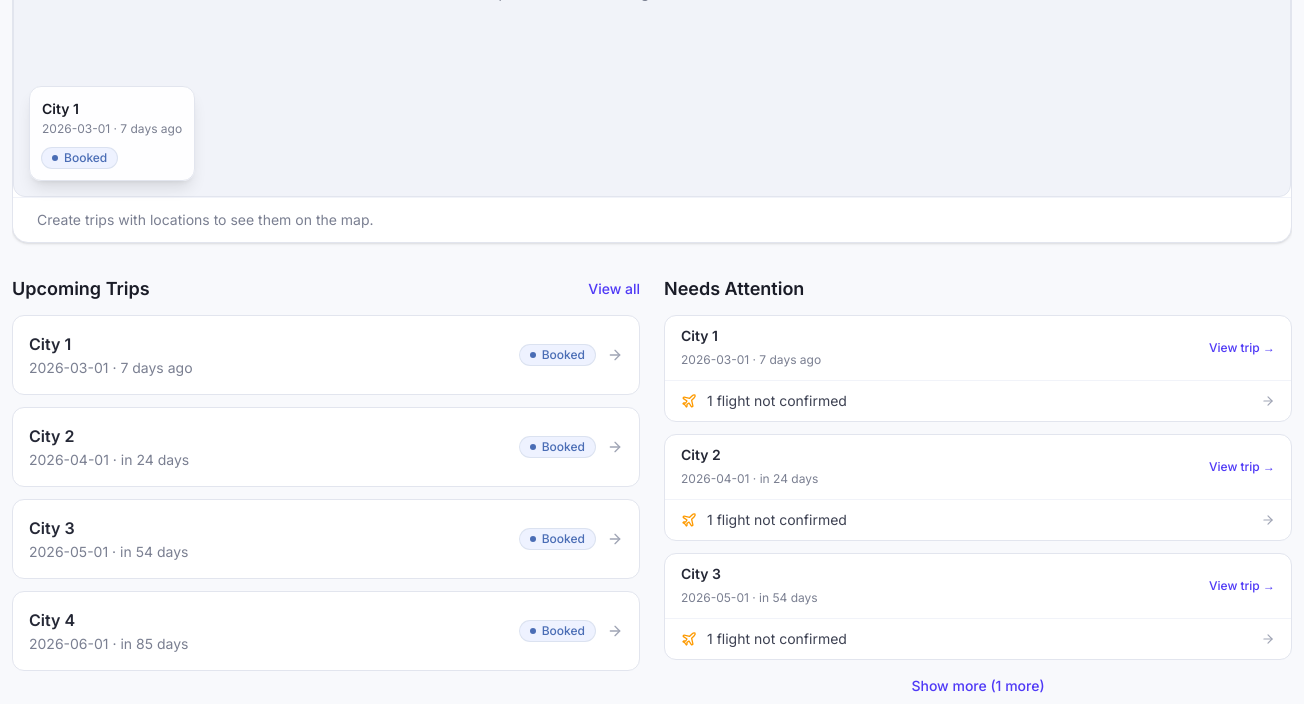
Scenario: DashboardPage Needs Attention › collapses back to 3 groups after clicking Show less
The image size is (1304, 704).
(page scrolled)
Click the button "Show more (1 more)".
click(978, 686)  # box [664, 668, 1292, 703]
(page scrolled)
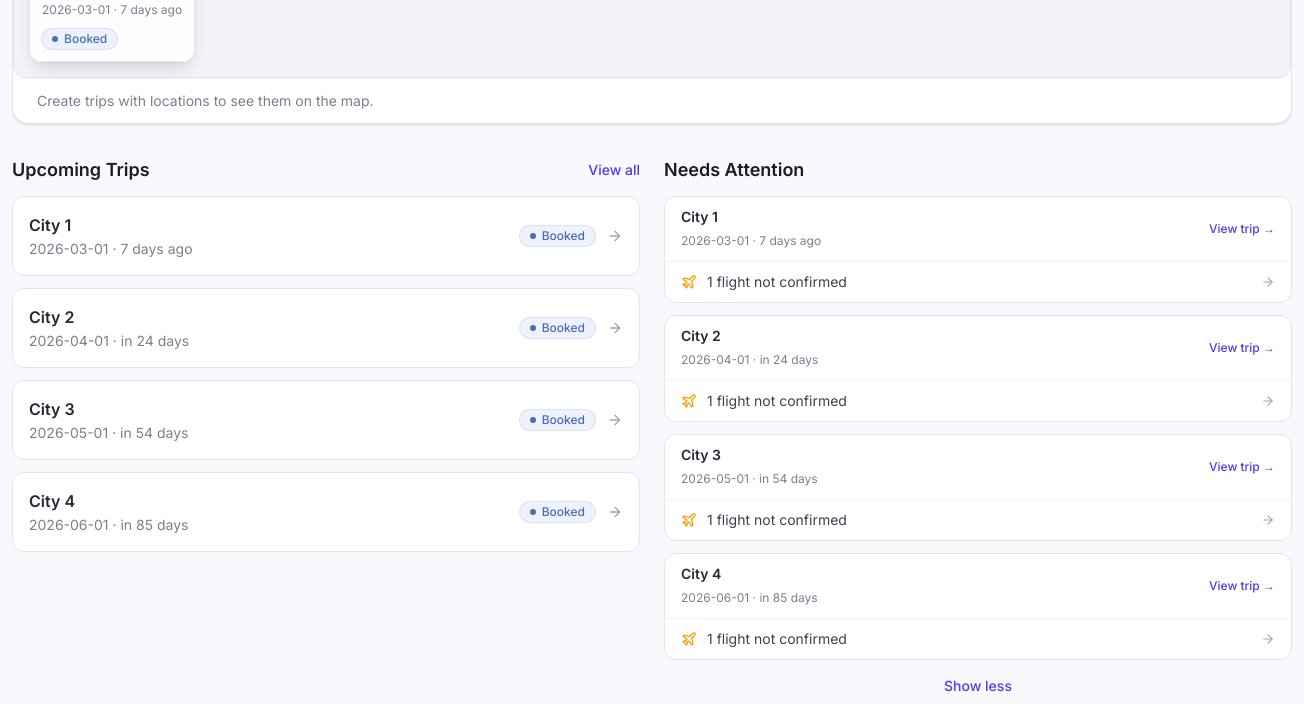
Now the number of links "View trip →" is 4, box [1209, 221, 1275, 237]; [1209, 340, 1275, 356]; [1209, 459, 1275, 475]; [1209, 578, 1275, 594]
Click the button "Show less".
click(978, 686)  # box [664, 668, 1292, 703]
(page scrolled)
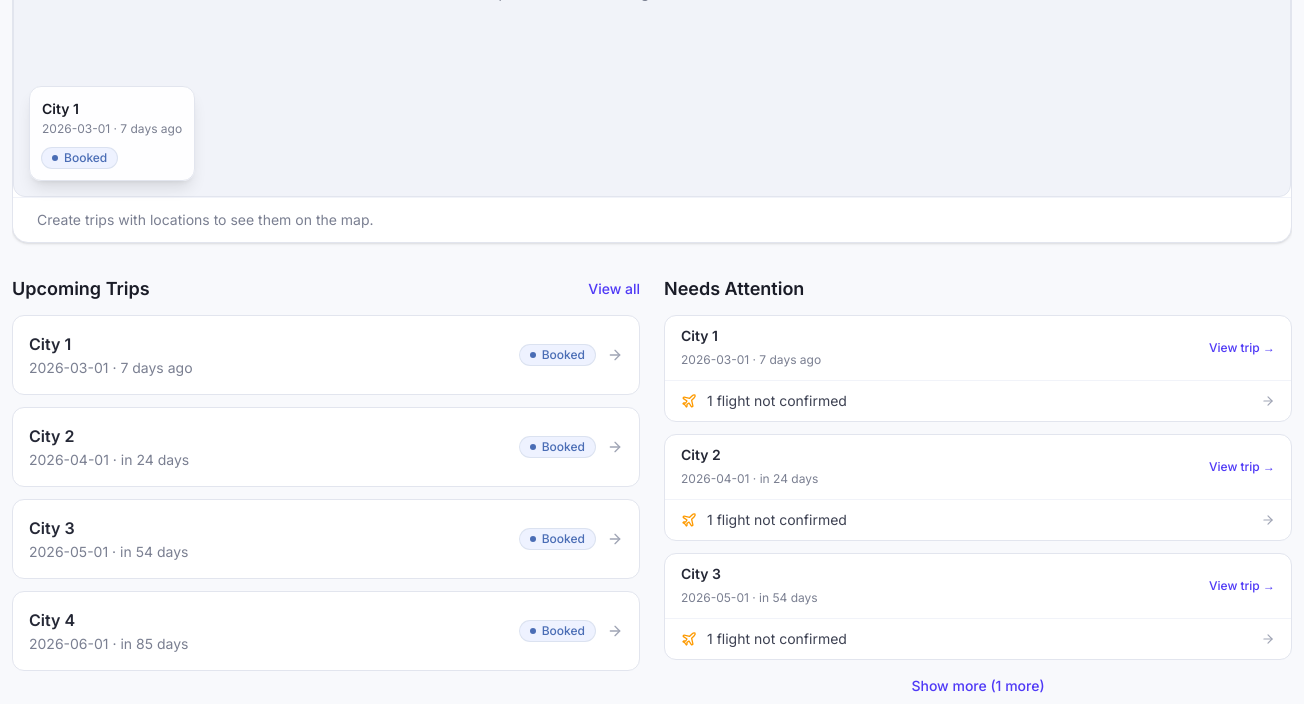
Expected: the number of links "View trip →" is 3, [1209, 340, 1275, 356]; [1209, 459, 1275, 475]; [1209, 578, 1275, 594]
Now the button "Show more (1 more)" is shown, box [664, 668, 1292, 703]
Now the button "Show less" is gone
